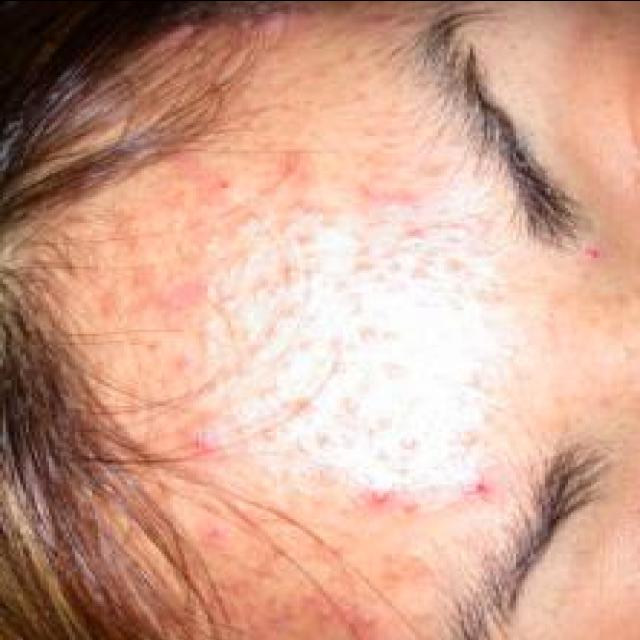Acne: (452, 474, 502, 504), (360, 480, 402, 510)
